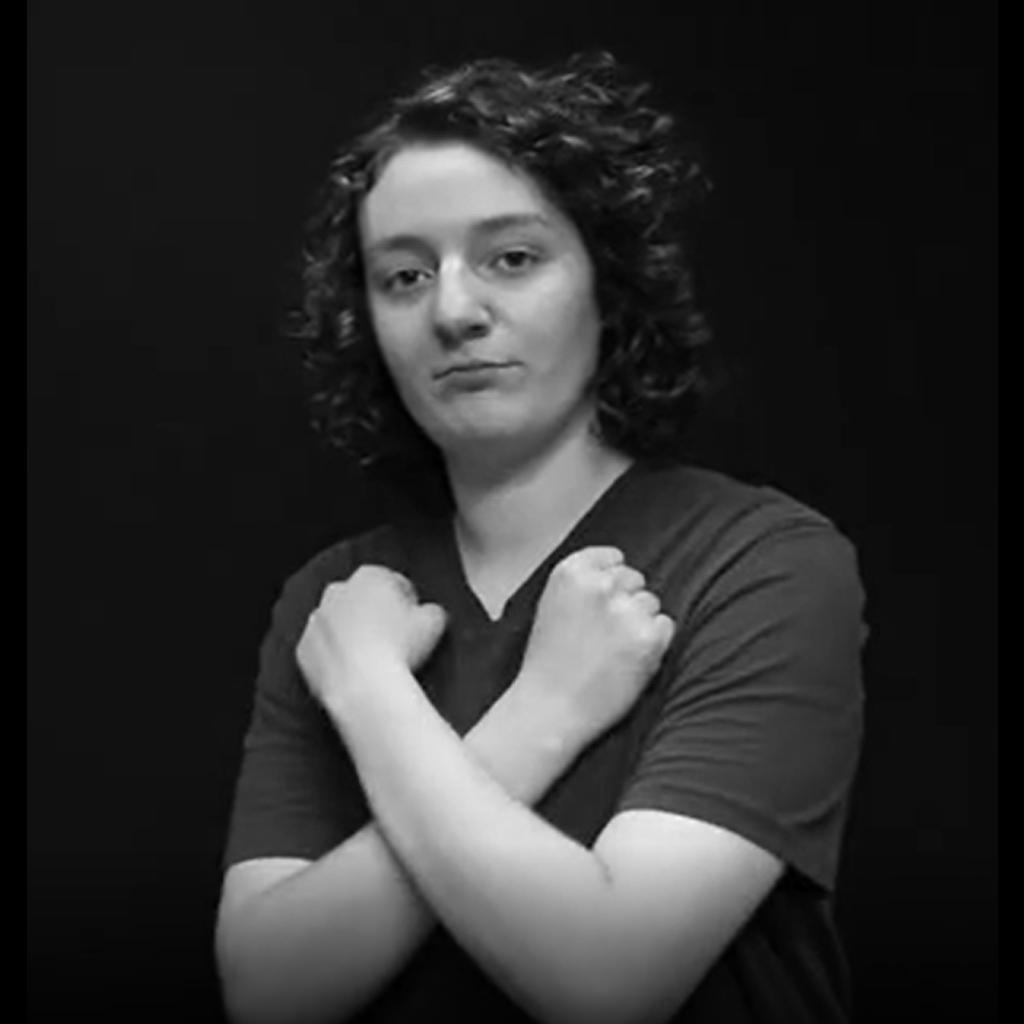love: (296, 546, 674, 740)
